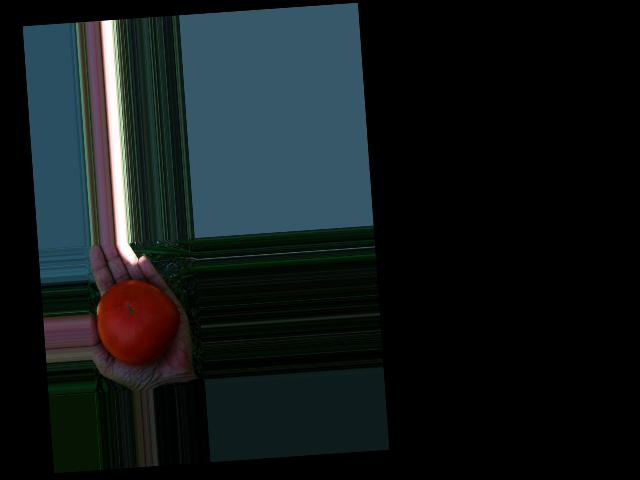tomato: (94, 276, 183, 367)
